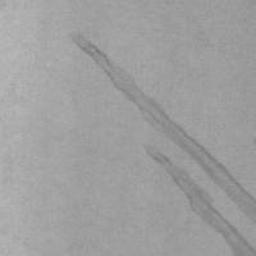Water spot: (69, 32, 256, 233), (145, 145, 256, 256)
